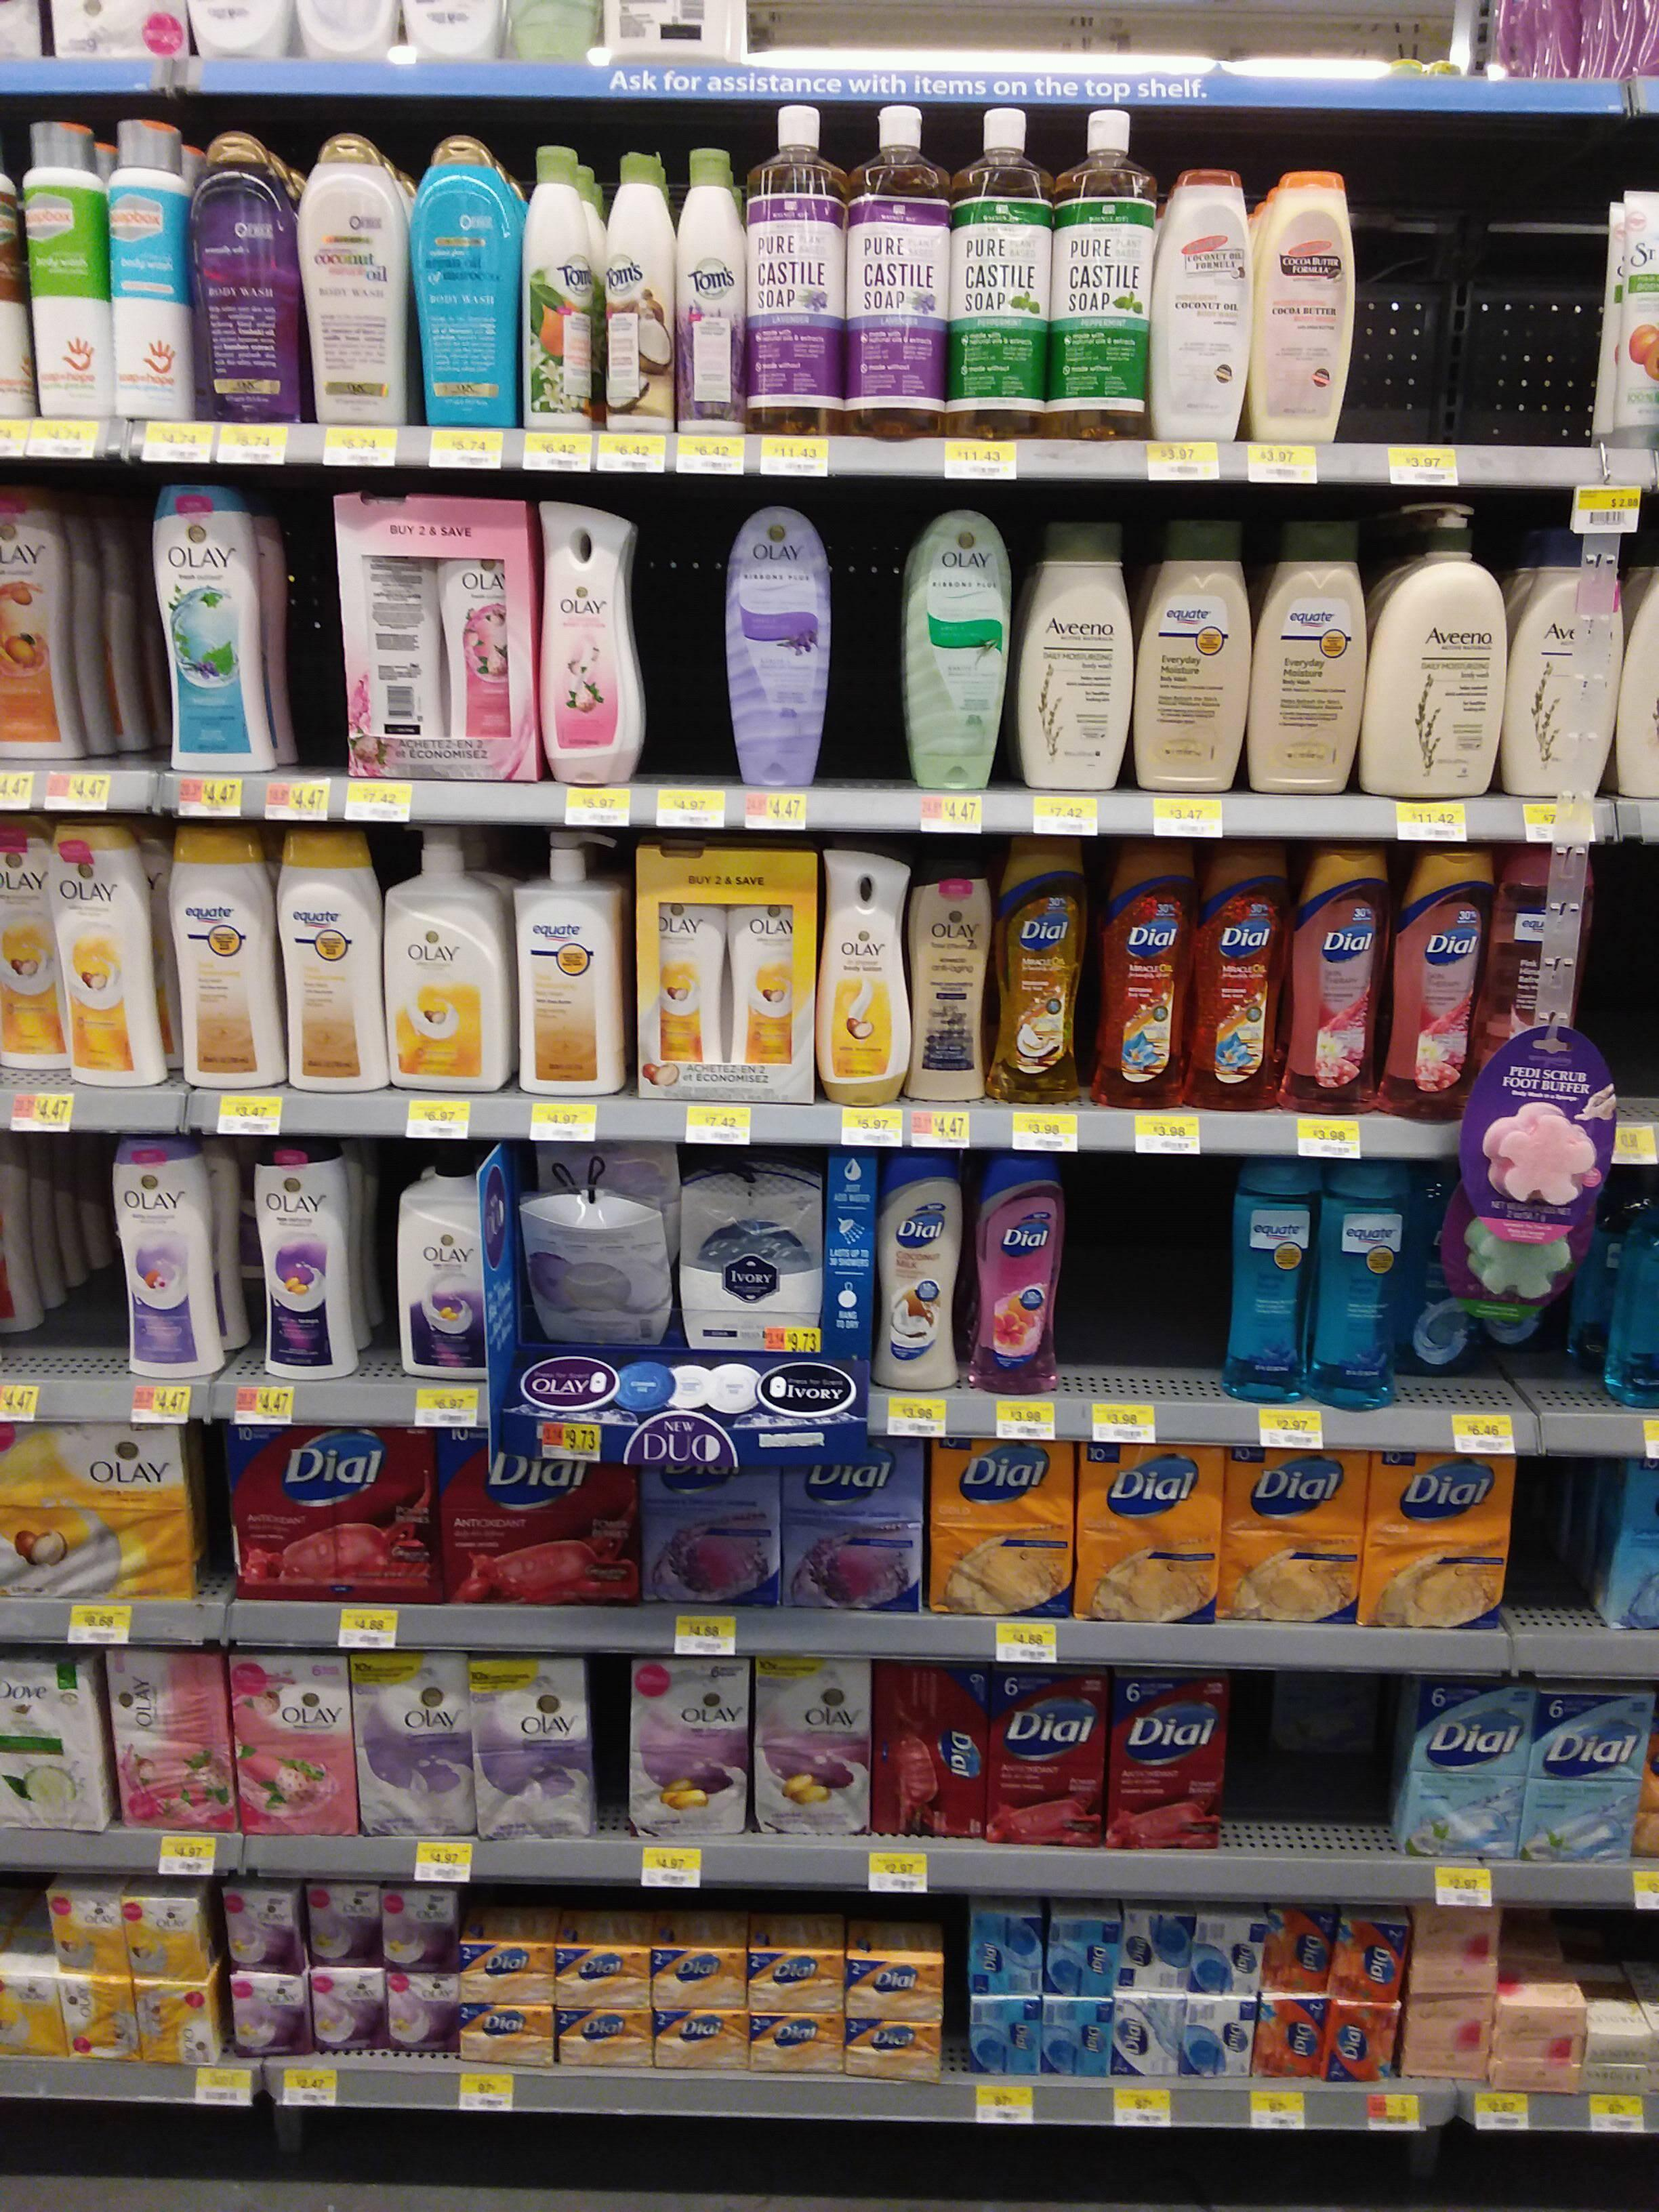empty: (1476, 171, 1577, 444), (1237, 1669, 1385, 1851), (1356, 169, 1455, 441), (274, 516, 350, 782), (643, 514, 720, 780), (826, 519, 903, 786), (1143, 1191, 1223, 1400), (1058, 1186, 1136, 1397), (38, 1163, 117, 1374), (1595, 867, 1659, 1103), (1525, 1456, 1598, 1629)
